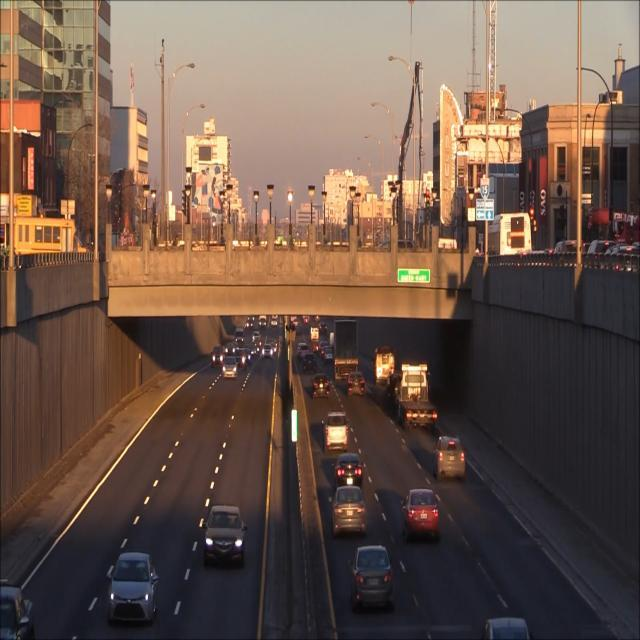Car: (106, 551, 159, 624), (348, 544, 394, 610), (202, 504, 247, 565), (400, 488, 440, 540), (0, 579, 34, 639), (329, 485, 367, 537), (432, 435, 466, 480)
